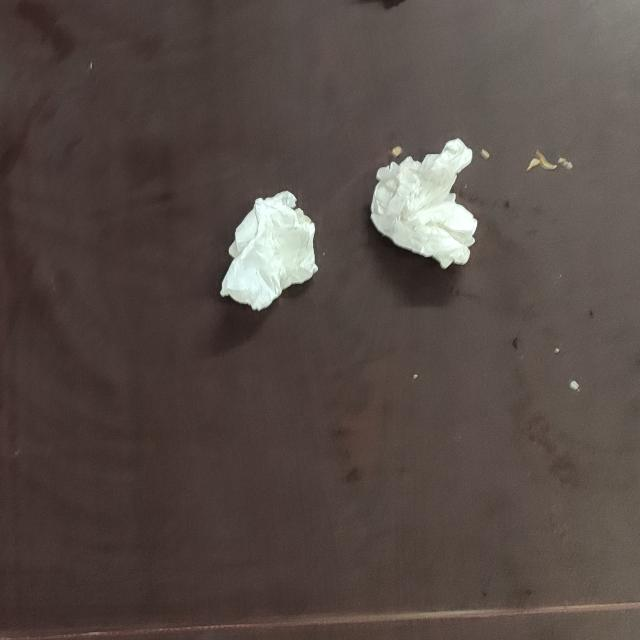kitchen paper: (367, 135, 482, 273), (218, 185, 322, 314)
